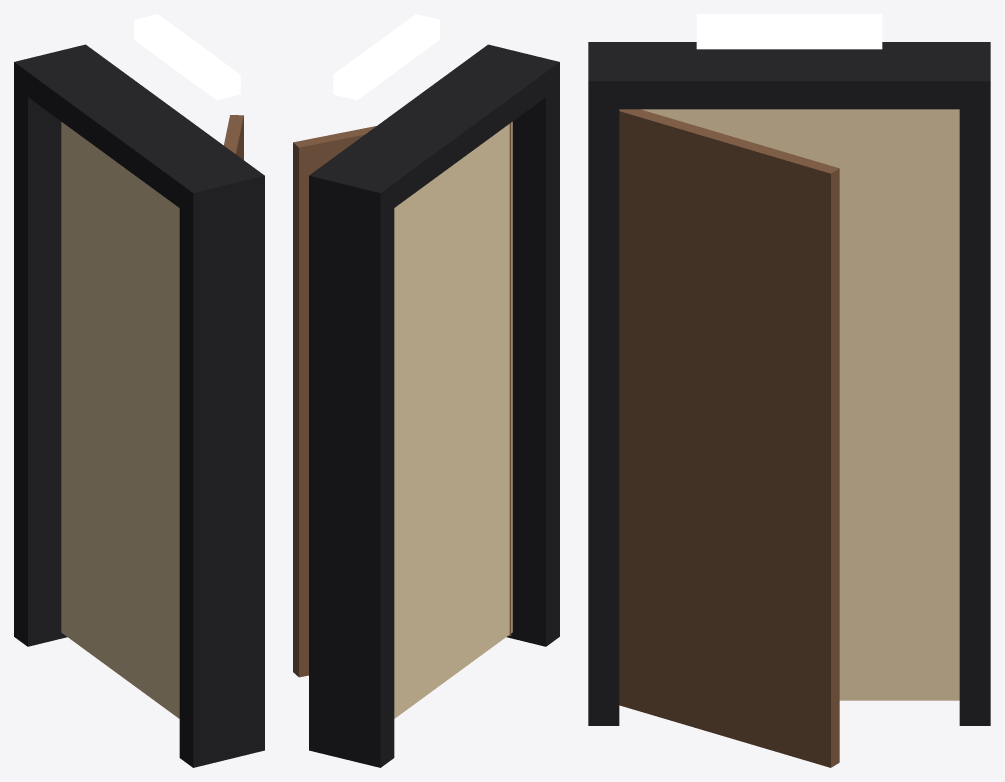
Rendered from SM_PrologueDoor.fbx.
3 views of the same model, side by side, from view 1: azimuth 30°, elevation 25°; view 2: azimuth 150°, elevation 25°; view 3: azimuth 270°, elevation 25° (orthographic). The views are drawn at different scales.
Parts seen in each view (by area): view 1: SM_PrologueDoor; view 2: SM_PrologueDoor; view 3: SM_PrologueDoor.
Part boxes in pixels (x1,y1,x2,y2): SM_PrologueDoor: [14, 14, 264, 767]; SM_PrologueDoor: [293, 14, 559, 767]; SM_PrologueDoor: [588, 14, 990, 767].
Size of the model in its own units: 66.42 by 254 by 130.
